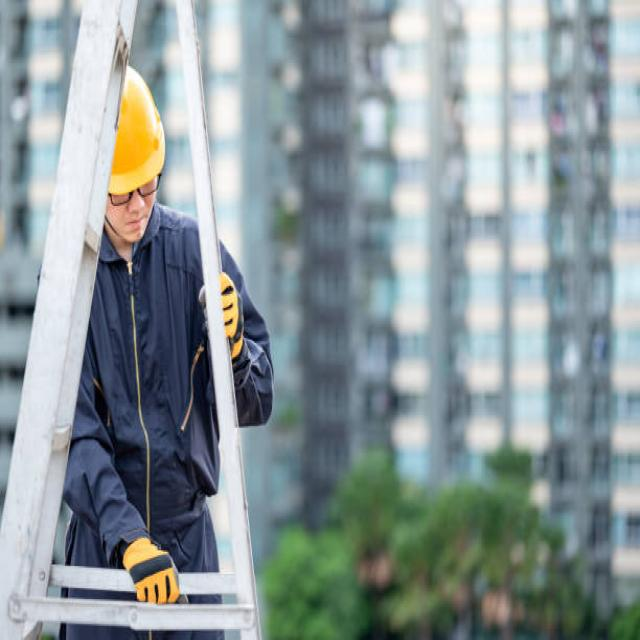gloves: (124, 538, 188, 607), (200, 269, 243, 362)
